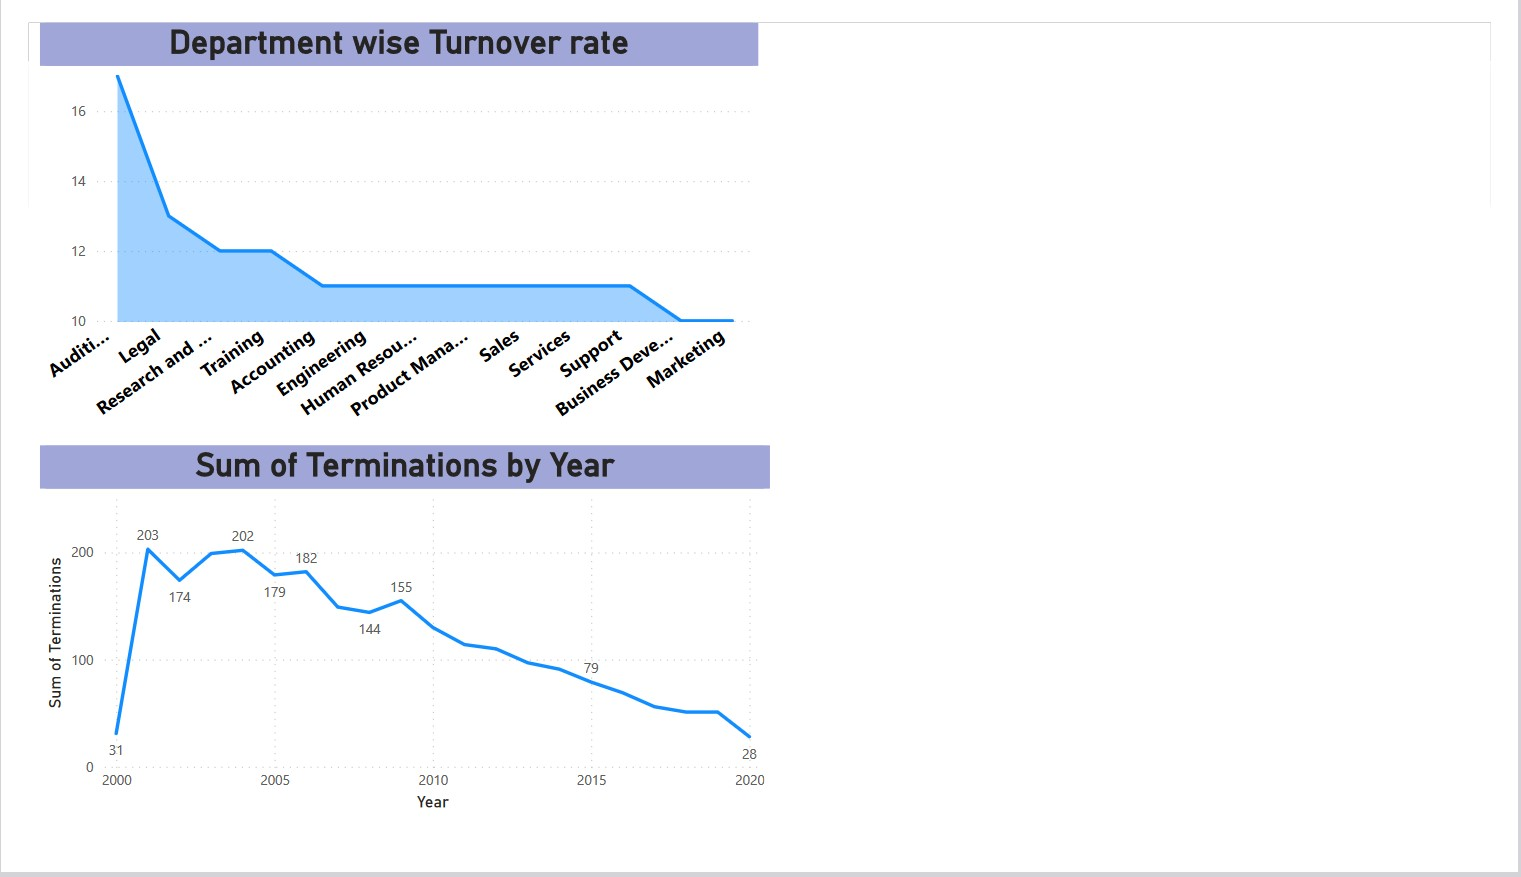

This screenshot's page, from the dashboard's own definition file:
{"tool":"powerbi","page":{"name":"Page 3","canvas":[1280,720],"ordinal":2},"visuals":[{"type":"stackedAreaChart","title":"Department wise Turnover rate","fields":{"Y":["Sum(turnover rate dept wise only.Column2)"],"Category":["turnover rate dept wise only.Column1"]},"box":[10.2,0,629.2,359.9],"z":0},{"type":"lineChart","fields":{"Category":["no  of hires and terminations yearwise.Year"],"Y":["Sum(no  of hires and terminations yearwise.Terminations)"]},"box":[9.6,370.3,639.2,324.4],"z":1}]}

Visuals, with their boxes in screenshot pixels (x1, y1, x2, y2), scaled from the page's 1280x720 canvas onto the 1521x877 screenshot:
"Department wise Turnover rate" stackedAreaChart: 12, 0, 760, 438
lineChart - no  of hires and terminations yearwise.Year x Sum(no  of hires and terminations yearwise.Terminations): 11, 451, 771, 846
